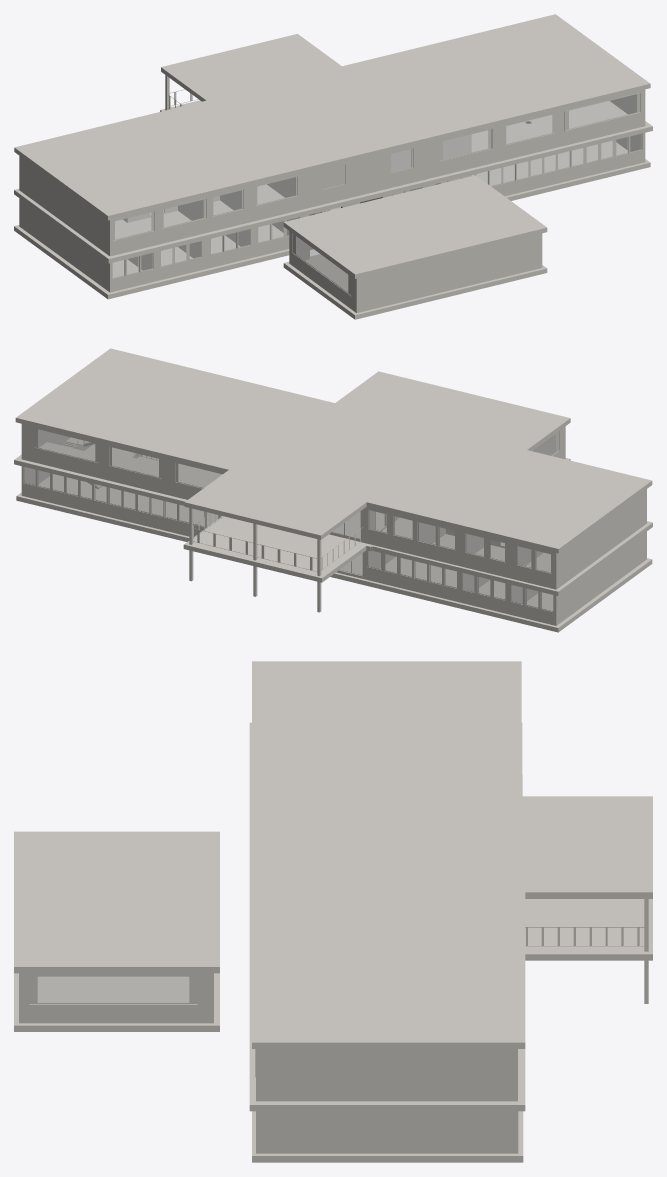
The model's file is washroom_ladies_walk.glb.
3 renders of one model, top to bottom at view 1: azimuth 30°, elevation 25°; view 2: azimuth 150°, elevation 25°; view 3: azimuth 270°, elevation 25°, orthographic. The views are drawn at different scales.
Visible parts, largest first — view 1: BEYOND_L2_SLAB, BEYOND_L1_WALL, BEYOND_L0_WALL, BEYOND_L0_SLAB, BEYOND_L1_SLAB, BEYOND_L1_GLASS, BEYOND_L0_GLASS, UPPER_in_zone, BEYOND_L1_FRAME, BEYOND_L0_FRAME, BEYOND_L1_OTHER, BEYOND_L0_OTHER; view 2: BEYOND_L2_SLAB, BEYOND_L1_WALL, BEYOND_L1_SLAB, BEYOND_L0_WALL, BEYOND_L0_SLAB, BEYOND_L1_GLASS, BEYOND_L0_GLASS, UPPER_in_zone, BEYOND_L1_FRAME, BEYOND_L0_FRAME, BEYOND_L1_OTHER, BEYOND_L1_STAIR (+3 smaller); view 3: BEYOND_L2_SLAB, BEYOND_L0_WALL, BEYOND_L1_WALL, BEYOND_L1_SLAB, BEYOND_L0_SLAB, UPPER_in_zone, BEYOND_L0_GLASS, BEYOND_L0_FRAME.
Boxes of the visible parts, <box> form: BEYOND_L2_SLAB: <box>14,14,650,278</box>; BEYOND_L1_WALL: <box>19,89,645,256</box>; BEYOND_L0_WALL: <box>19,133,645,313</box>; BEYOND_L0_SLAB: <box>14,122,650,319</box>; BEYOND_L1_SLAB: <box>14,100,652,263</box>; BEYOND_L1_GLASS: <box>115,94,636,238</box>; BEYOND_L0_GLASS: <box>113,134,641,291</box>; UPPER_in_zone: <box>265,127,351,189</box>; BEYOND_L1_FRAME: <box>113,93,640,240</box>; BEYOND_L0_FRAME: <box>112,134,642,295</box>; BEYOND_L1_OTHER: <box>112,89,641,240</box>; BEYOND_L0_OTHER: <box>124,133,642,295</box>; BEYOND_L2_SLAB: <box>15,348,652,553</box>; BEYOND_L1_WALL: <box>21,424,646,589</box>; BEYOND_L1_SLAB: <box>14,442,652,596</box>; BEYOND_L0_WALL: <box>21,426,646,625</box>; BEYOND_L0_SLAB: <box>16,444,652,632</box>; BEYOND_L1_GLASS: <box>38,429,550,572</box>; BEYOND_L0_GLASS: <box>24,434,555,610</box>; UPPER_in_zone: <box>368,422,455,461</box>; BEYOND_L1_FRAME: <box>34,428,551,573</box>; BEYOND_L0_FRAME: <box>23,431,558,611</box>; BEYOND_L1_OTHER: <box>34,428,551,573</box>; BEYOND_L1_STAIR: <box>136,454,500,570</box>; BEYOND_L2_SLAB: <box>14,661,652,1048</box>; BEYOND_L0_WALL: <box>19,973,518,1153</box>; BEYOND_L1_WALL: <box>256,1049,517,1101</box>; BEYOND_L1_SLAB: <box>249,722,652,1111</box>; BEYOND_L0_SLAB: <box>14,775,523,1162</box>; UPPER_in_zone: <box>256,798,363,834</box>; BEYOND_L0_GLASS: <box>38,977,188,1002</box>; BEYOND_L0_FRAME: <box>29,976,197,1003</box>.
Bounding box in the file's own units: 38.22 × 5.6 × 27.
11 materials, 8 textured.
